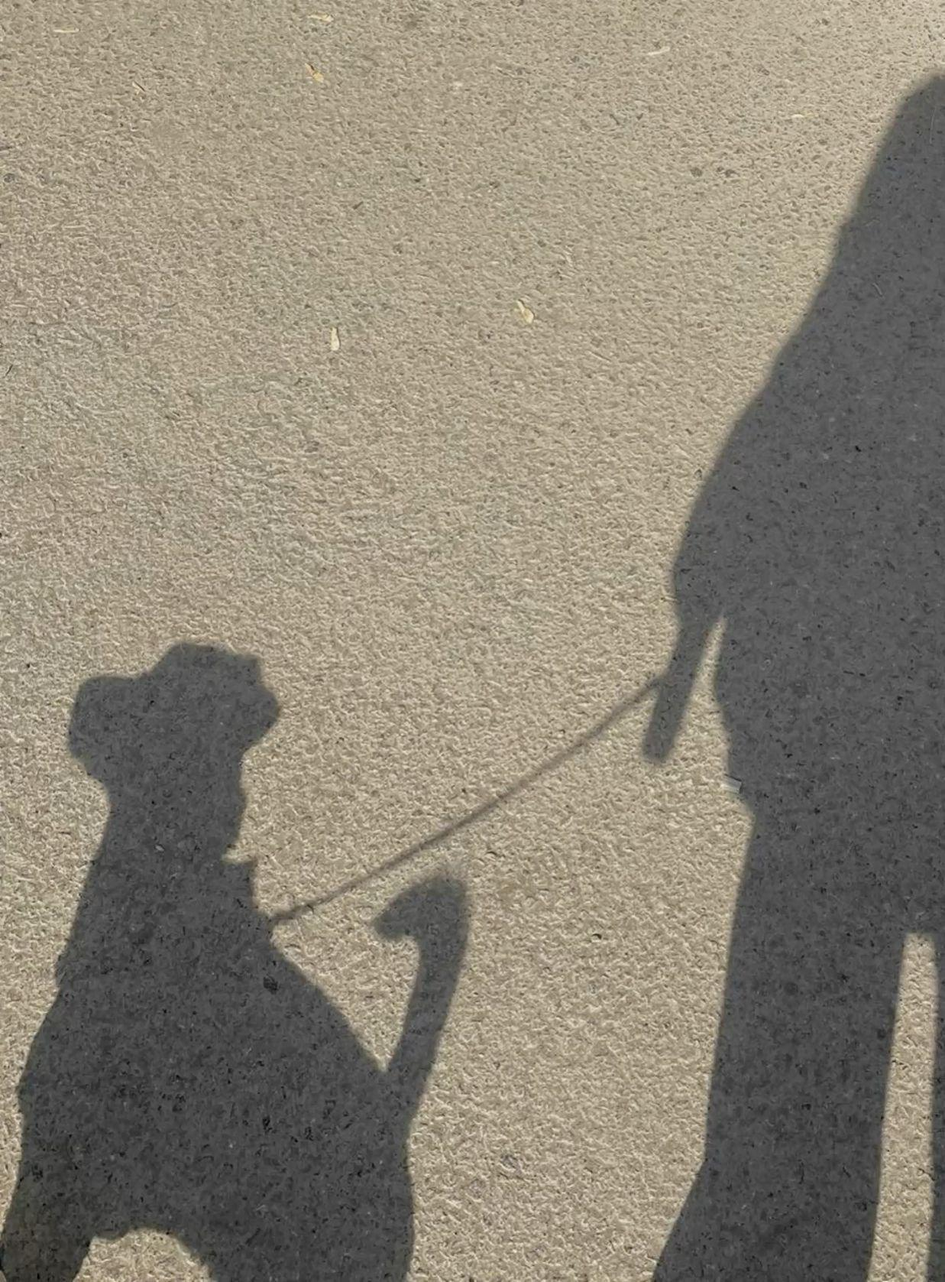adult_dog: (0, 637, 474, 1282)
non-dog: (643, 67, 945, 1282)
